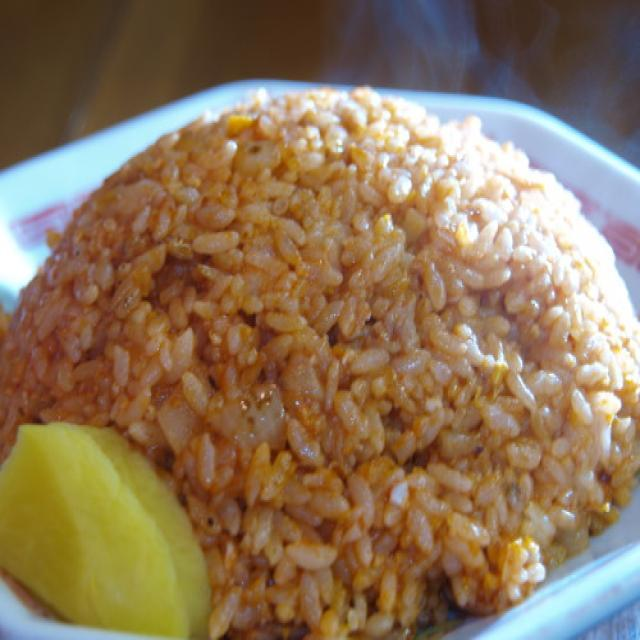Rice: (0, 83, 630, 613)
